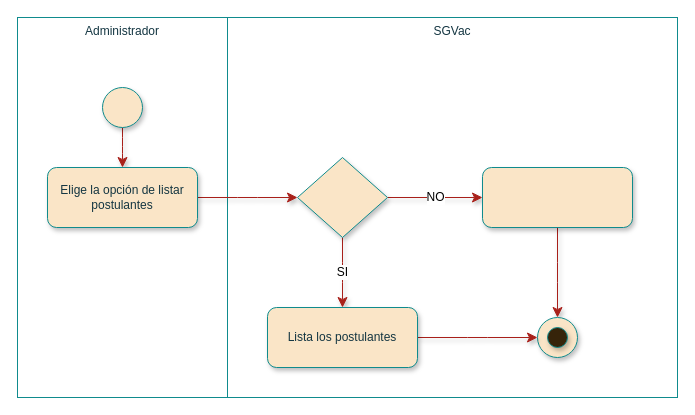
The diagram is 695 pixels wide and 415 high, and some of its shapes have lost their labels. Here are the shapes that lost their labels. From the top down, the centre of each, then its label:
the point at 343,198: Hay resultados ?
the point at 558,198: Muestra no hay resultados
